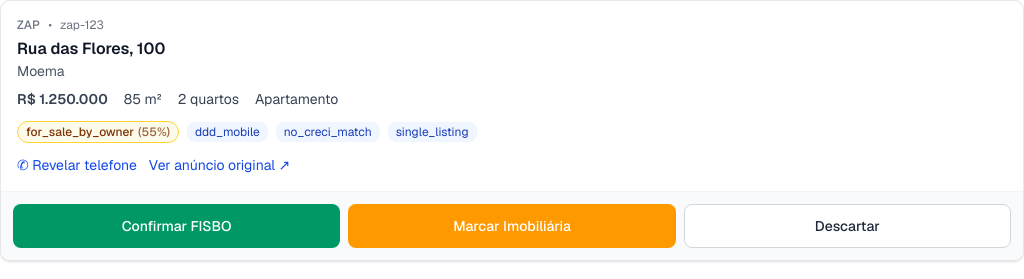
Test case: ReviewQueueCard — Story 7.8 AC3/AC4 › shows decided state after action succeeds
Click the button "Descartar".
click(847, 226)  # box [684,204,1011,248]
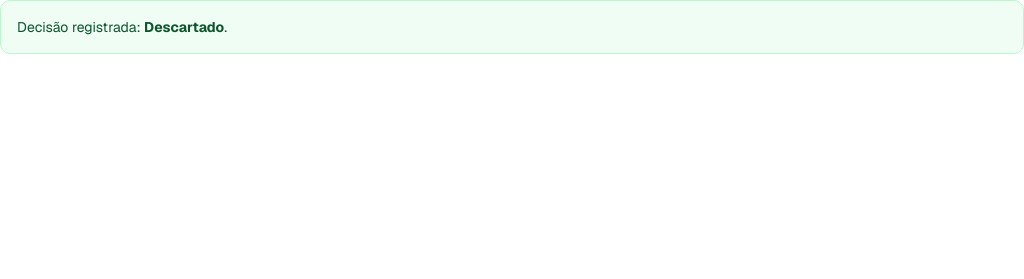
Check: the element with test id "card-decided" is shown, box [0,0,1023,54]
